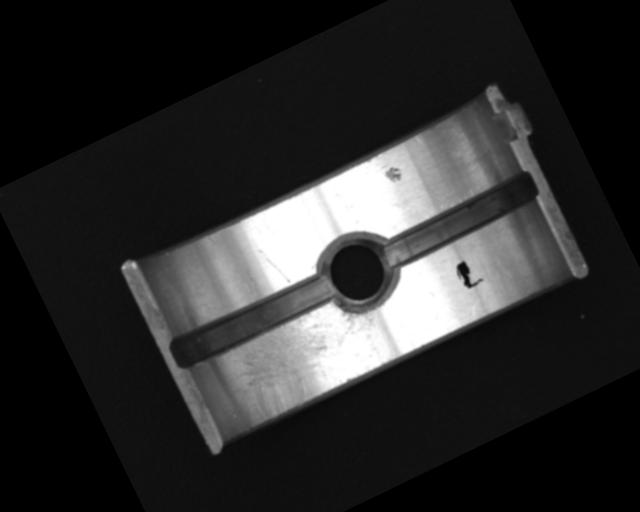blot: (451, 255, 485, 292)
bruise: (382, 163, 405, 186)
gap: (165, 264, 340, 376), (376, 169, 542, 273)
hole: (311, 223, 407, 323)
nick: (258, 243, 292, 290)
scratch: (212, 288, 396, 432)
